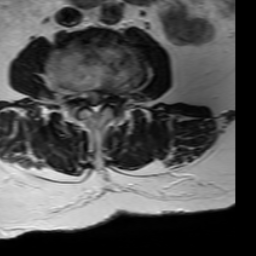CCS_normal: (91, 83, 99, 119)
LFS_severe_stenosis: (109, 83, 119, 108)
LLS_severe_stenosis: (99, 83, 109, 111)
RFS_stenosis: (70, 81, 81, 108)
RLS_stenosis: (81, 81, 91, 108)
